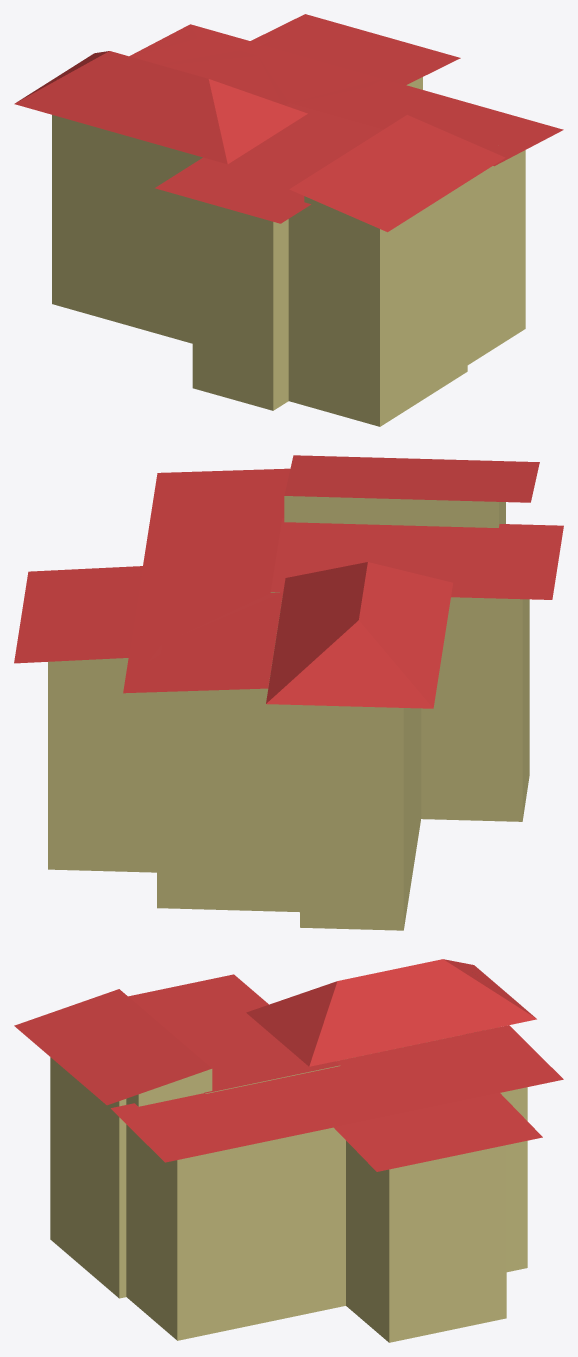
The picture shows the model from 3 angles, top to bottom: view 1: azimuth 30°, elevation 25°; view 2: azimuth 150°, elevation 25°; view 3: azimuth 270°, elevation 25°; orthographic projection. The views are drawn at different scales.
Parts seen in each view (by area): view 1: group_17, group_5, group_21, group_3, group_11, group_15, group_19, group_13, group_7, group_12, group_20; view 2: group_5, group_13, group_11, group_3, group_9, group_21, group_19, group_7, group_15, group_17, group_12, group_20 (+1 smaller); view 3: group_13, group_9, group_11, group_3, group_17, group_15, group_19, group_7, group_12, group_20.
Boxes of the visible parts, x1,y1,x2,y2 form: group_17: (304, 179, 471, 426); group_5: (52, 115, 202, 343); group_21: (192, 199, 304, 410); group_3: (14, 51, 307, 164); group_11: (129, 24, 563, 166); group_15: (289, 115, 505, 232); group_19: (155, 103, 383, 223); group_13: (471, 150, 525, 362); group_7: (250, 14, 460, 84); group_12: (131, 29, 562, 156); group_20: (155, 159, 310, 223); group_5: (270, 597, 452, 930); group_13: (130, 597, 282, 911); group_11: (123, 468, 290, 693); group_3: (266, 562, 452, 708); group_9: (48, 658, 130, 871); group_21: (270, 592, 529, 821); group_19: (271, 518, 563, 599); group_7: (14, 566, 142, 663); group_15: (284, 455, 539, 502); group_17: (284, 496, 505, 527); group_12: (130, 469, 289, 692); group_20: (451, 524, 562, 599); group_13: (135, 1087, 527, 1340); group_9: (358, 1145, 506, 1342); group_11: (111, 1025, 563, 1162); group_3: (246, 959, 536, 1066); group_17: (50, 1057, 212, 1303); group_15: (14, 989, 211, 1104); group_19: (128, 974, 339, 1093); group_7: (334, 1093, 542, 1171); group_12: (114, 1026, 556, 1161); group_20: (129, 975, 267, 1011).
Bounding box in the file's own units: 12.52 × 15.15 × 7.47.
